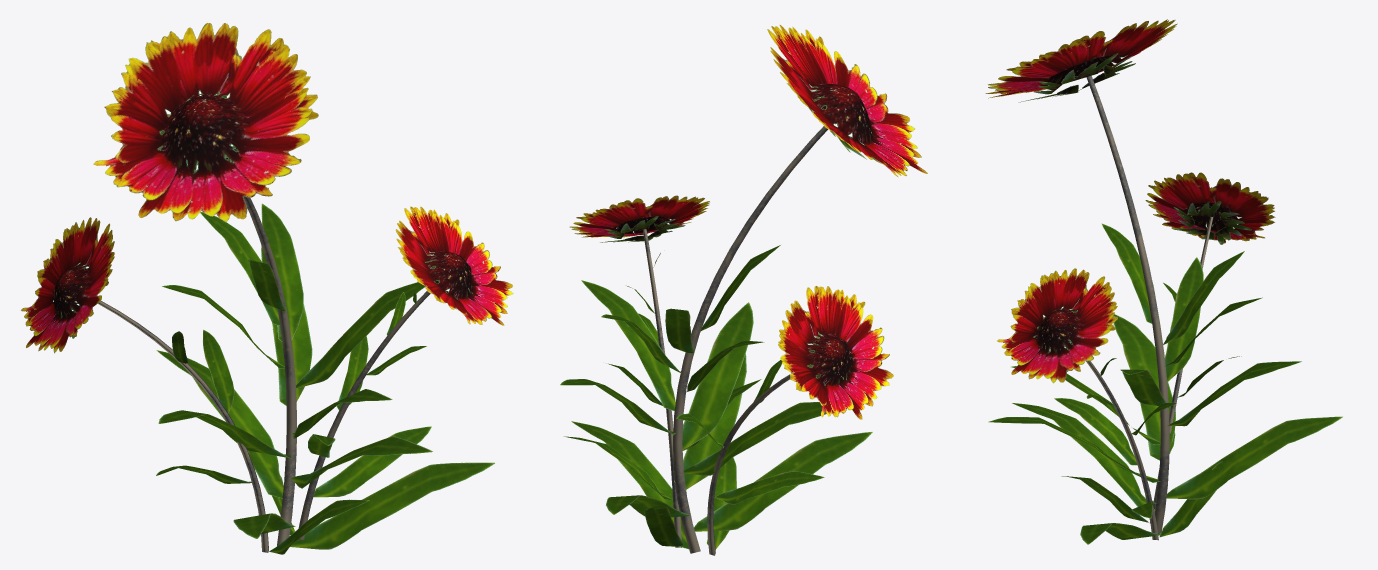
The model's file is BlanketFlower.glb.
3 renders of one model, left to right at view 1: azimuth 30°, elevation 25°; view 2: azimuth 150°, elevation 25°; view 3: azimuth 270°, elevation 25°, orthographic. The views are drawn at different scales.
Parts seen in each view (by area): view 1: BlanketFlower; view 2: BlanketFlower; view 3: BlanketFlower.
Part boxes in pixels (x1,y1,x2,y2): BlanketFlower: [21, 23, 513, 554]; BlanketFlower: [560, 25, 927, 555]; BlanketFlower: [985, 19, 1342, 544].
Size of the model in its own units: 0.4839 by 0.6178 by 0.4525.
1 material, 1 textured.
